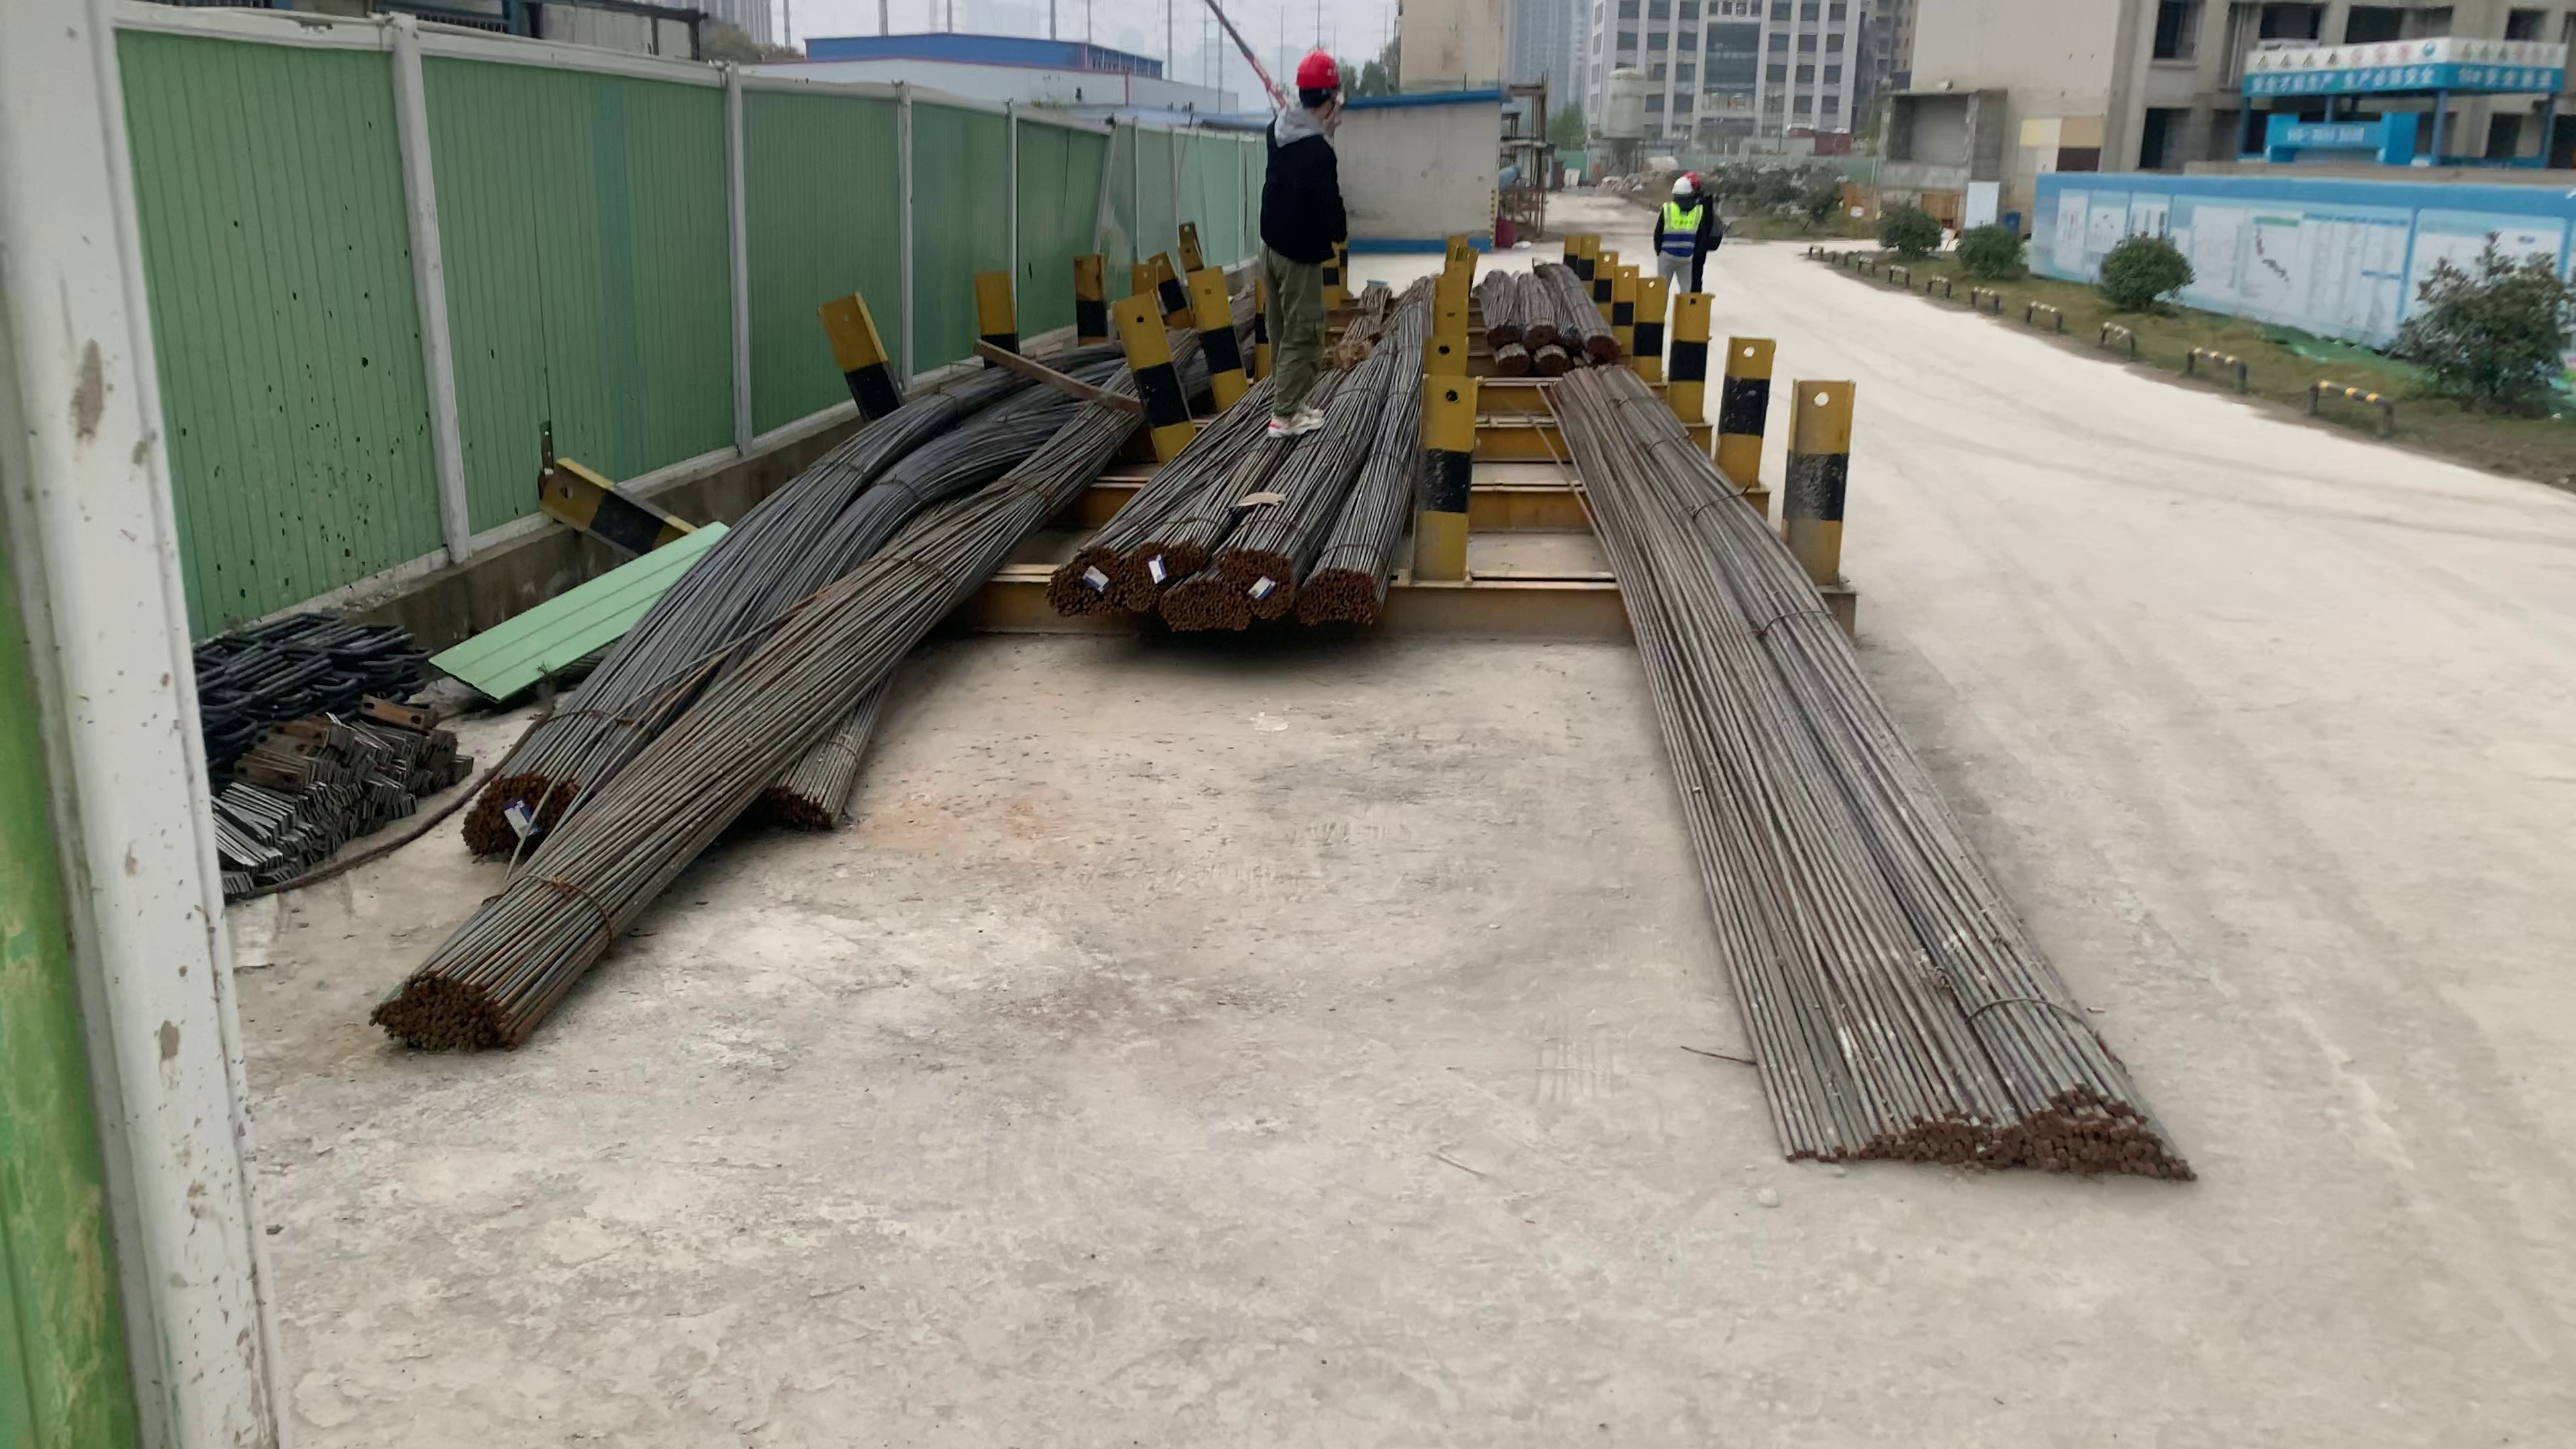rebar: (1796, 1086, 2199, 1191), (377, 968, 531, 1060), (467, 771, 579, 855), (1122, 533, 1196, 609), (1221, 543, 1297, 616), (750, 780, 840, 833), (1299, 568, 1376, 628), (1054, 548, 1122, 610), (1166, 586, 1246, 626), (1539, 350, 1571, 377), (1587, 329, 1612, 357), (1497, 352, 1530, 372), (1527, 320, 1552, 341), (1488, 322, 1516, 340)
